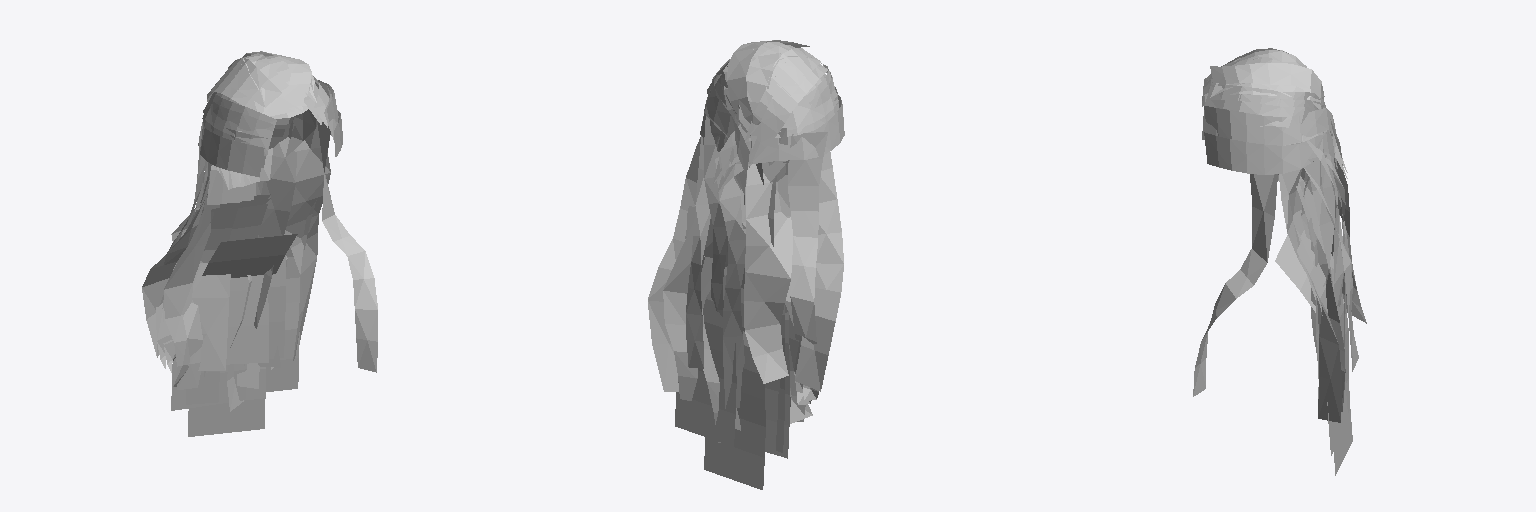
File: girl_hair.obj
The picture shows the model from 3 angles: view 1: azimuth 30°, elevation 25°; view 2: azimuth 150°, elevation 25°; view 3: azimuth 270°, elevation 25°; orthographic projection.
Parts seen in each view (by area): view 1: Plane012; view 2: Plane012; view 3: Plane012.
Part boxes in pixels (left/top/right/bottom): Plane012: left=142, top=51, right=377, bottom=436; Plane012: left=648, top=40, right=844, bottom=489; Plane012: left=1193, top=48, right=1366, bottom=475.
Size of the model in its own units: 22.22 by 47.22 by 18.4.